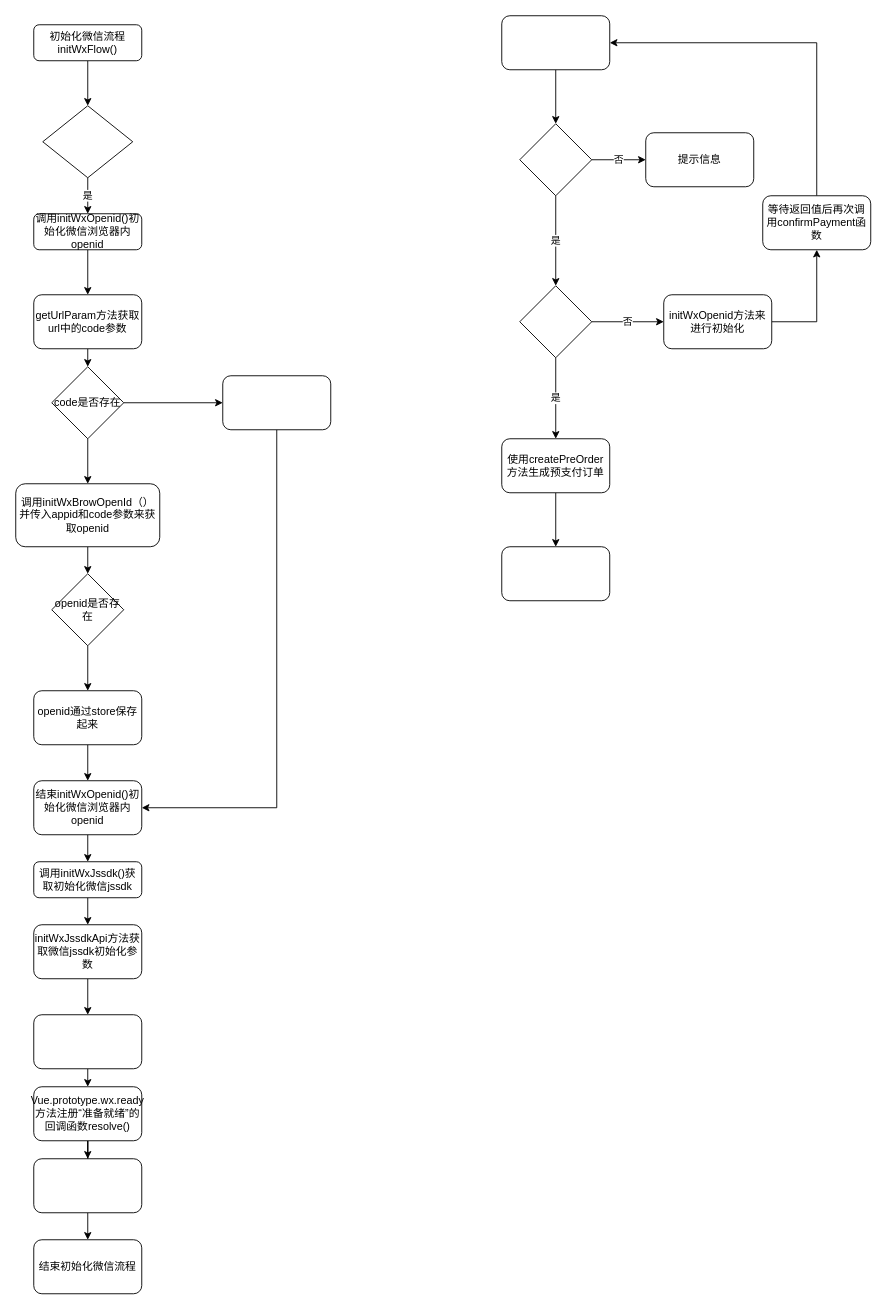
Some shapes in this 887 by 1310 pixel diagram are drawn without their labels. The centre of each missing label's shape, as x and y in pixels:
"Vue.prototype.wx.config方法进行配置" belongs at (x=87, y=1041).
"Vue.prototype.wx.error方法注册错误的回调函数" belongs at (x=87, y=1185).
"使用wx.chooseWXPay方法发起微信支付请求" belongs at (x=555, y=573).
"当前浏览器是否为微信浏览器" belongs at (x=87, y=141).
"是否获取到微信openid" belongs at (x=555, y=321).
"检查当前是否为微信浏览器" belongs at (x=555, y=159).
"用户点击确认支付调用confirmPayment（）" belongs at (x=555, y=42).
"直接返回错误信息reject('没有code')" belongs at (x=276, y=402).
